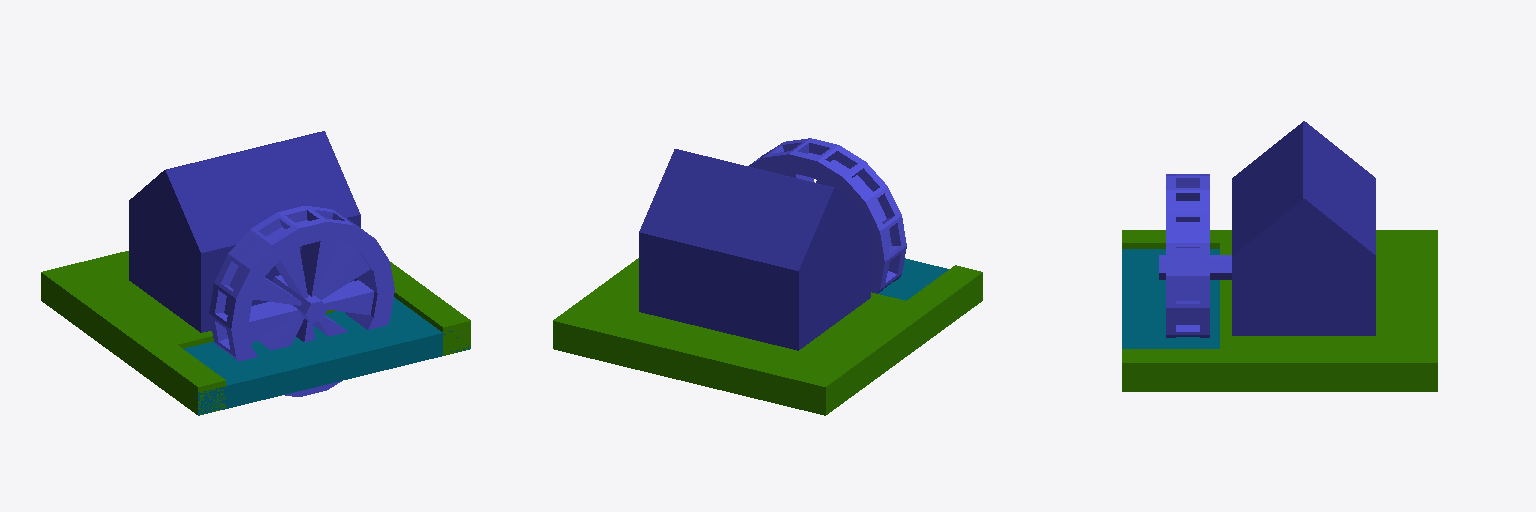
The model's file is Grinder2.obj.
3 views of the same model, side by side, from view 1: azimuth 30°, elevation 25°; view 2: azimuth 150°, elevation 25°; view 3: azimuth 270°, elevation 25° (orthographic).
Visible parts, largest first — view 1: Box922, Mill002, Tilebase131, Tilebase132, Cylinder139; view 2: Box922, Tilebase131, Mill002, Tilebase132; view 3: Box922, Tilebase131, Mill002, Tilebase132, Cylinder139.
Boxes of the visible parts, box(x1,y1,x2,y2) form: Box922: box(129, 131, 360, 332); Mill002: box(209, 206, 394, 396); Tilebase131: box(41, 251, 470, 414); Tilebase132: box(184, 297, 470, 415); Cylinder139: box(272, 275, 327, 322); Box922: box(639, 149, 870, 350); Tilebase131: box(553, 258, 982, 415); Mill002: box(749, 138, 906, 293); Tilebase132: box(878, 258, 948, 300); Box922: box(1232, 121, 1375, 335); Tilebase131: box(1122, 230, 1437, 391); Mill002: box(1166, 174, 1209, 337); Tilebase132: box(1122, 249, 1219, 348); Cylinder139: box(1159, 255, 1231, 279).
Bounding box in the file's own units: 10 × 6.73 × 10.